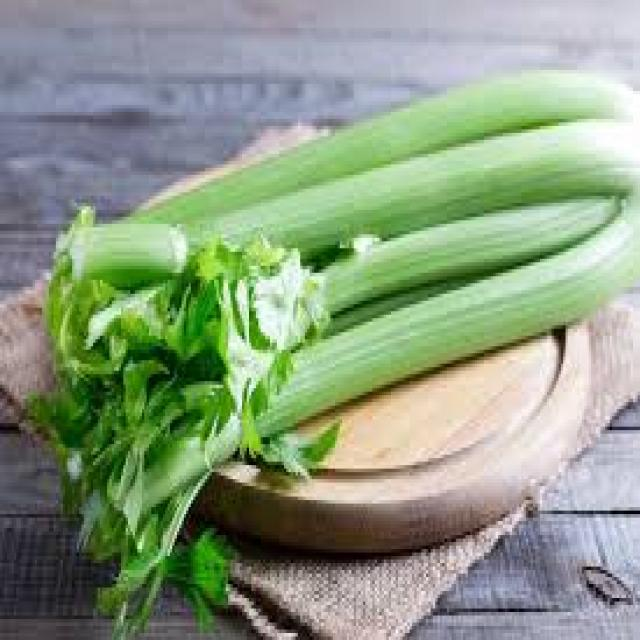organic waste: (47, 70, 638, 619), (116, 206, 638, 504), (132, 70, 638, 255), (188, 115, 638, 273), (272, 189, 626, 318), (119, 231, 326, 406), (65, 451, 210, 619), (26, 371, 207, 496), (224, 311, 342, 483), (44, 255, 126, 378), (61, 214, 186, 284), (158, 518, 235, 616)
